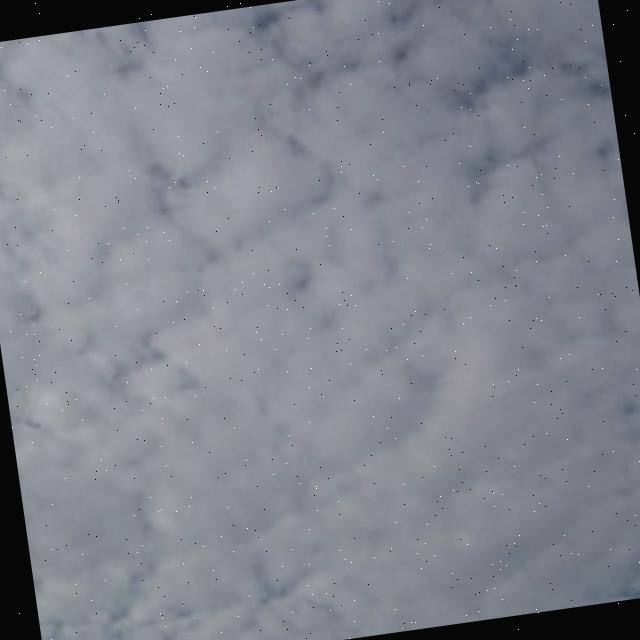Ac: (1, 1, 640, 522)
